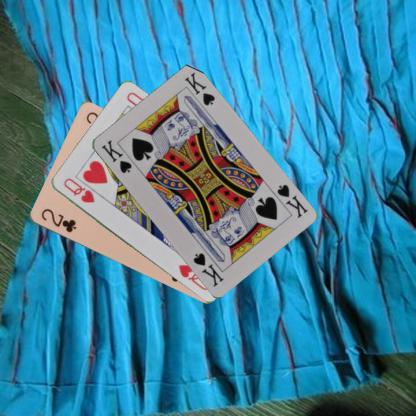2c: (38, 206, 78, 234)
Ks: (98, 137, 133, 174), (274, 182, 308, 219)
Qh: (60, 175, 96, 205)
